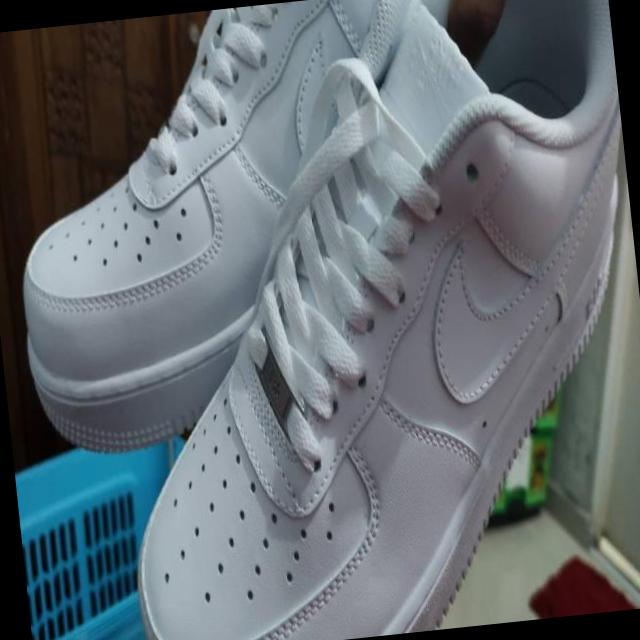nike_original_airforce: (74, 0, 640, 640), (0, 0, 495, 465)
